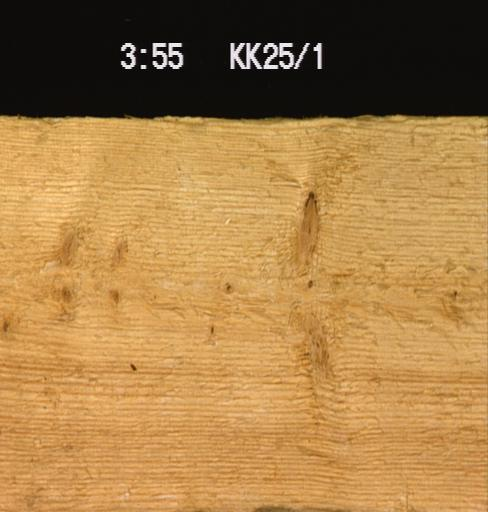small_knot: (0, 308, 22, 339), (102, 281, 126, 308), (203, 318, 220, 341), (446, 282, 463, 304), (219, 275, 235, 296)
